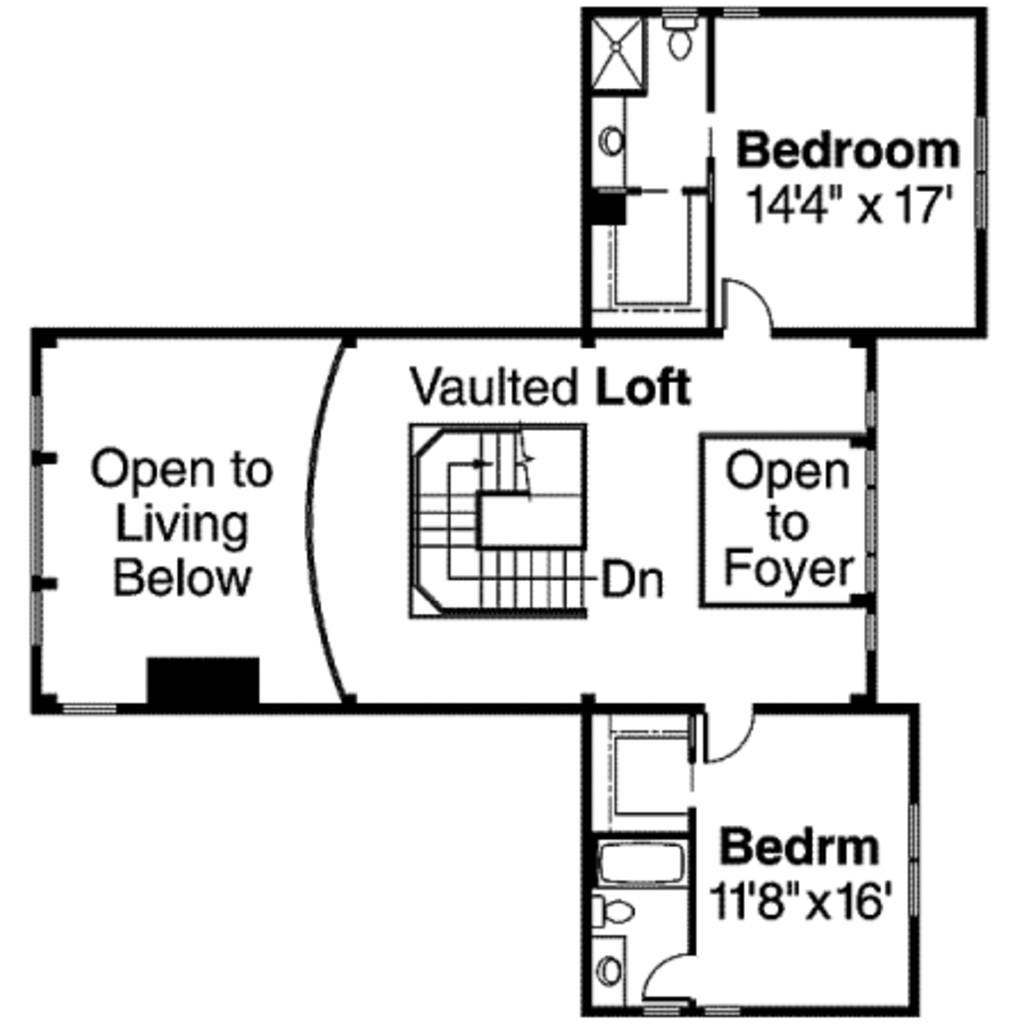door: (630, 947, 712, 1006), (716, 270, 779, 343), (702, 697, 759, 770)
large_sink: (591, 892, 645, 936), (659, 1, 700, 58)
small_sink: (581, 90, 637, 187), (584, 933, 627, 1009)
stairs: (403, 409, 597, 624)
tub: (589, 830, 691, 887)
window: (22, 385, 59, 641), (970, 112, 992, 228), (903, 808, 924, 914), (60, 698, 118, 717), (719, 3, 764, 27)
